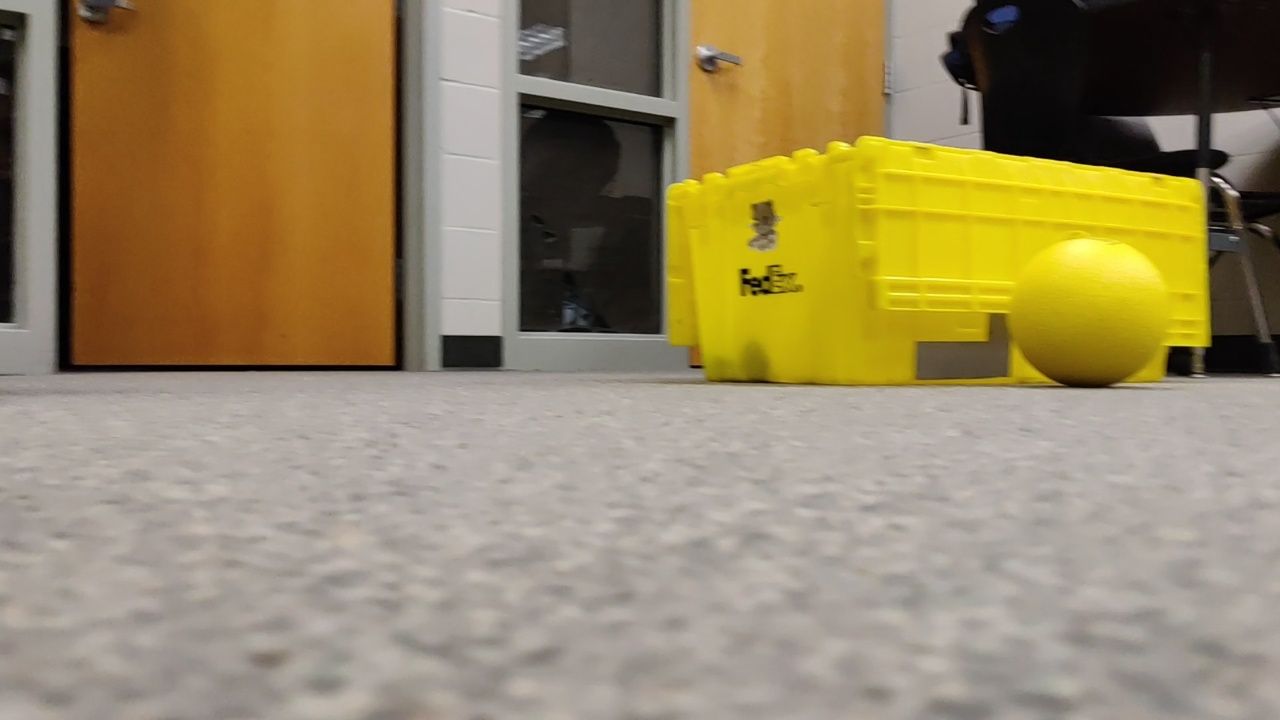Ball: (1002, 224, 1181, 390)
